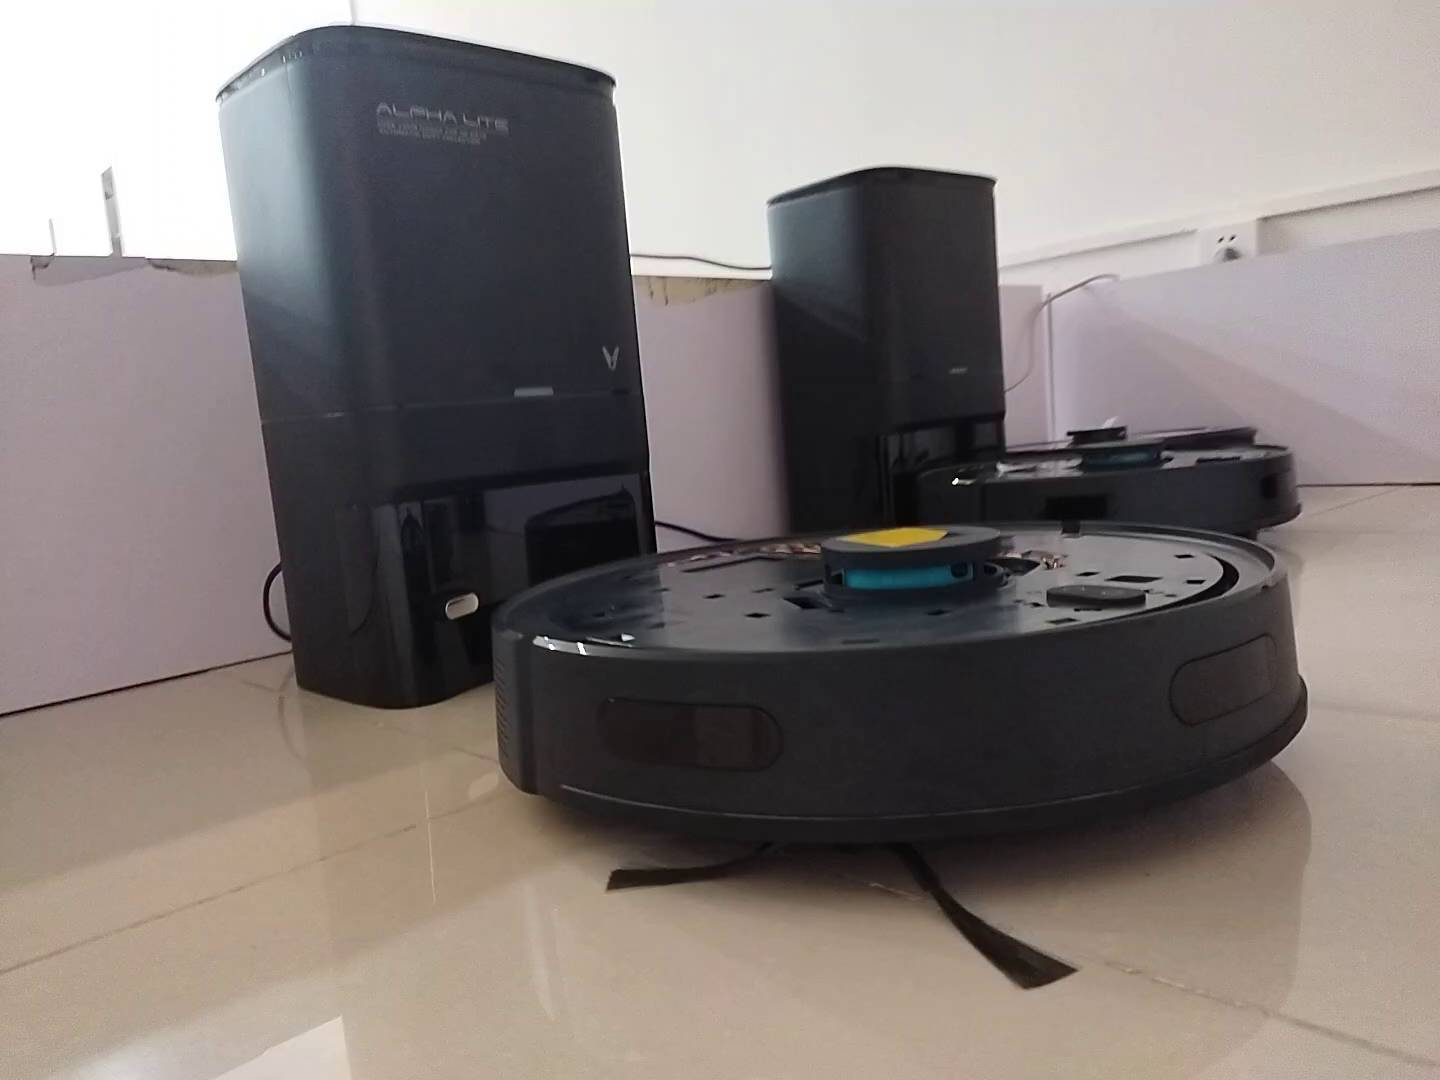dust collecting barrel: (215, 26, 659, 710), (765, 164, 1005, 528)
